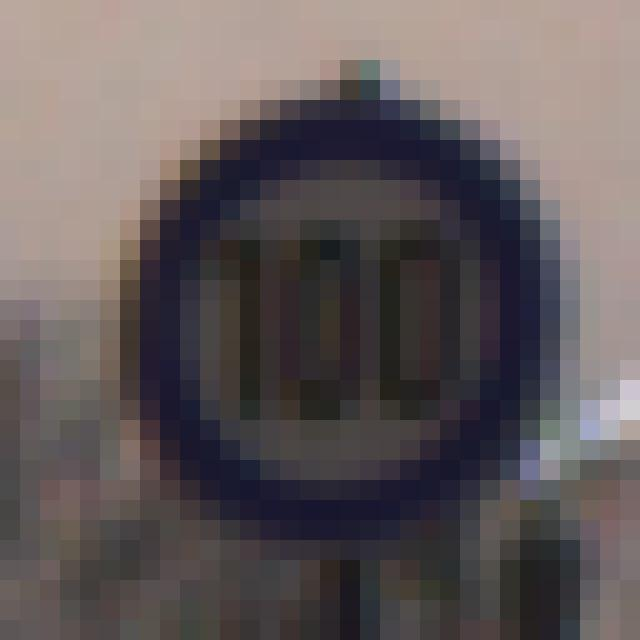SPEED LIMIT 100: (117, 101, 562, 540)
